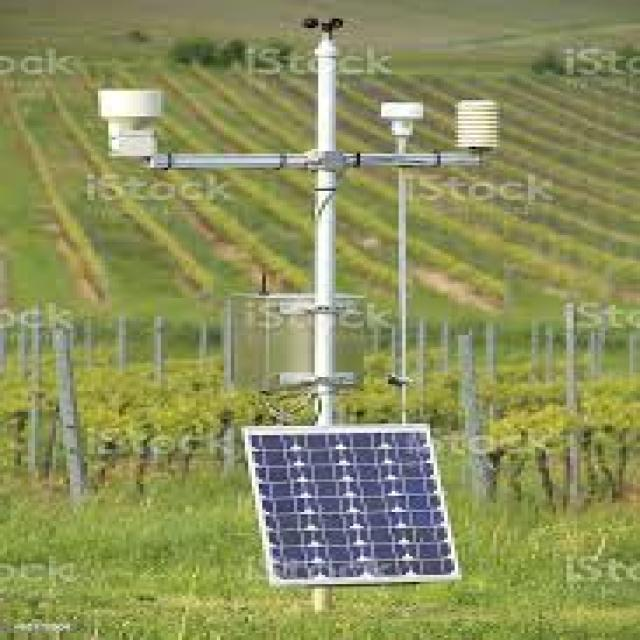no faulty: (245, 428, 452, 590)
